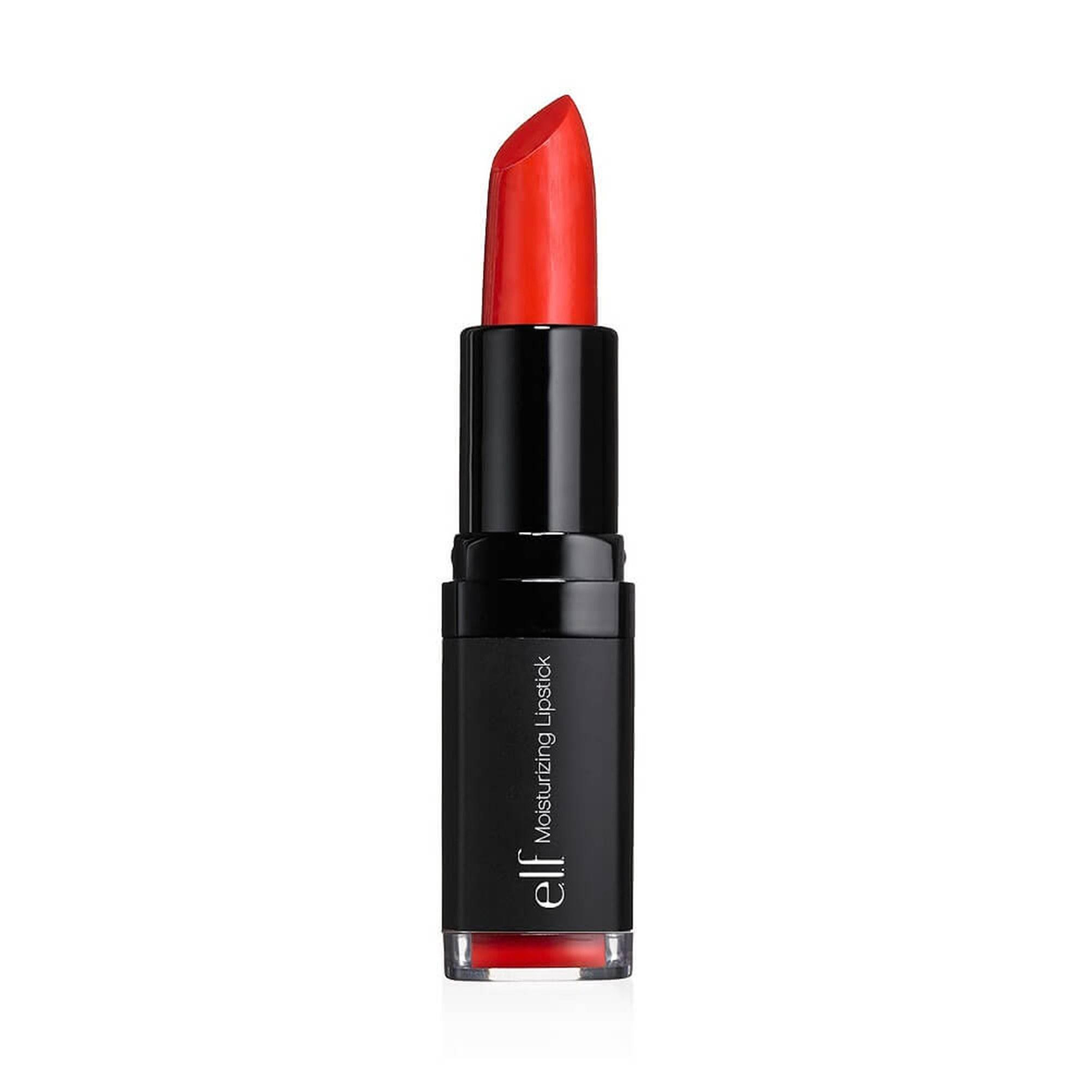lipstick: (367, 100, 754, 1007)
